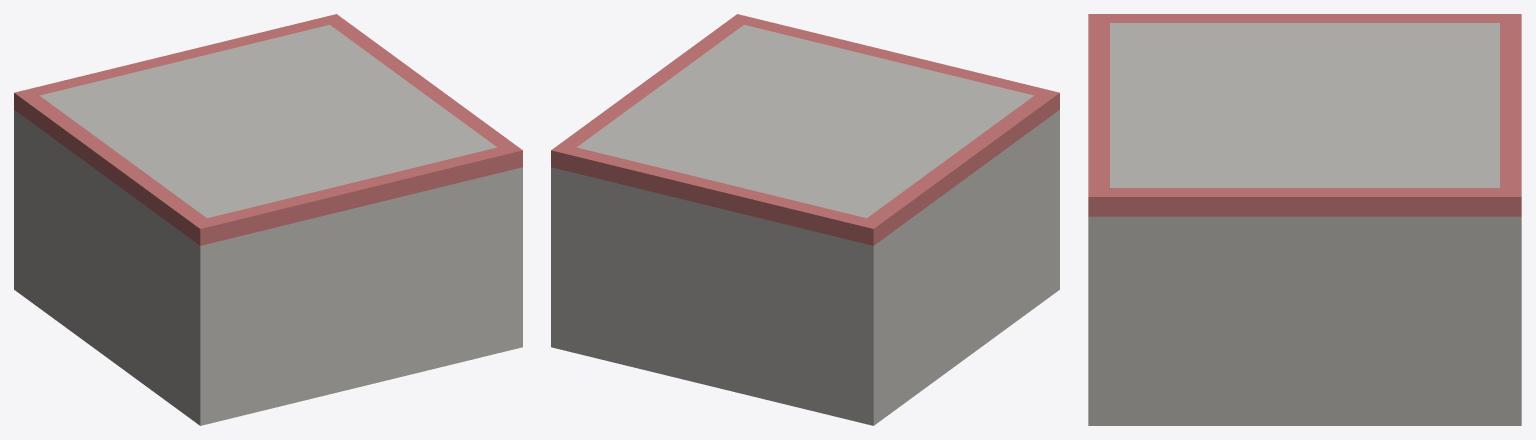
File: step_02.glb
3 views of the same model, side by side, from view 1: azimuth 30°, elevation 25°; view 2: azimuth 150°, elevation 25°; view 3: azimuth 270°, elevation 25° (orthographic). The views are drawn at different scales.
Visible parts, largest first — view 1: part__concrete sinker, removed__concrete sinker; view 2: part__concrete sinker, removed__concrete sinker; view 3: part__concrete sinker, removed__concrete sinker.
Boxes of the visible parts, left/top/right/bottom form: part__concrete sinker: left=14, top=25, right=522, bottom=425; removed__concrete sinker: left=14, top=14, right=522, bottom=245; part__concrete sinker: left=551, top=25, right=1059, bottom=425; removed__concrete sinker: left=551, top=14, right=1059, bottom=245; part__concrete sinker: left=1088, top=23, right=1521, bottom=425; removed__concrete sinker: left=1088, top=14, right=1521, bottom=216.
Bounding box in the file's own units: 600 × 350 × 600.
